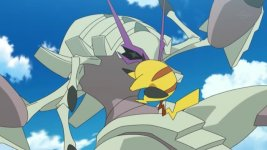pikachu: (124, 57, 202, 120)
